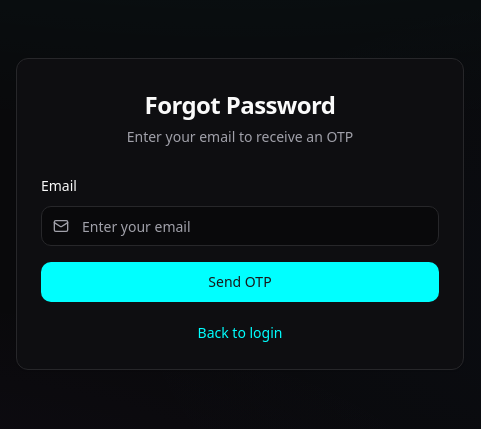
Test: ForgotPassword › rejects a password the backend schema would reject, without calling the API
The image size is (481, 429).
Type "buyer@example.com" into the field labelled "Email".
click(240, 226); type("buyer@example.com")  # box x1=41 y1=206 x2=439 y2=246
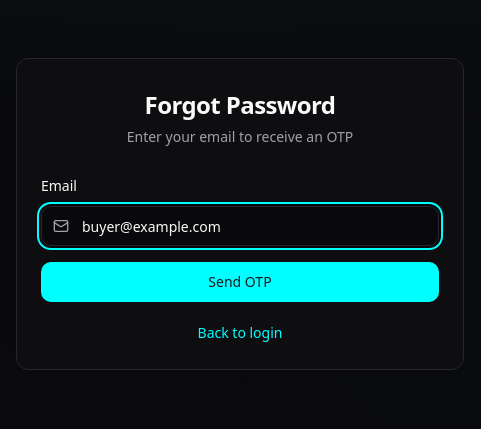
Click the button "Send OTP".
click(240, 282)  # box x1=41 y1=262 x2=439 y2=302
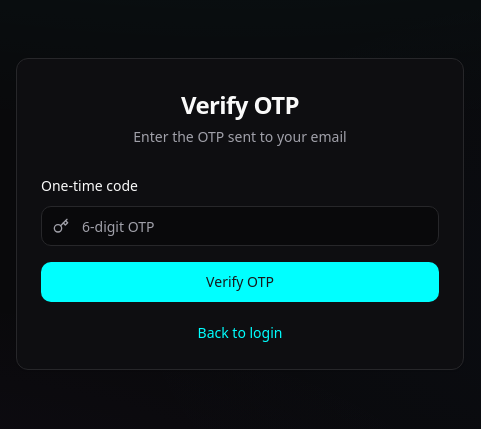
Type "123456" into the field labelled "One-time code".
click(240, 226); type("123456")  # box x1=41 y1=206 x2=439 y2=246
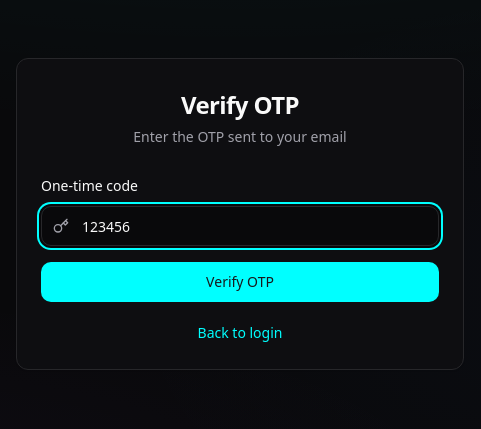
Click the button "Verify OTP".
click(240, 282)  # box x1=41 y1=262 x2=439 y2=302
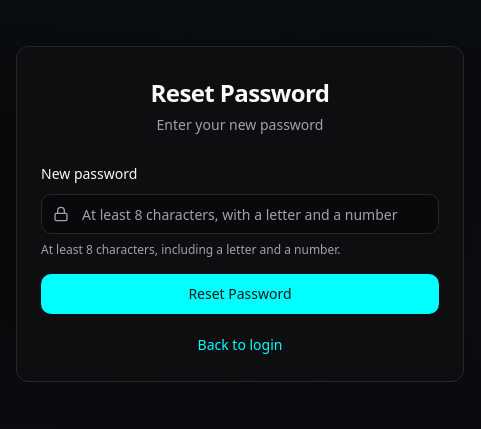
Type "abcdefgh" into the password field labelled "New password".
click(240, 214); type("abcdefgh")  # box x1=41 y1=194 x2=439 y2=234
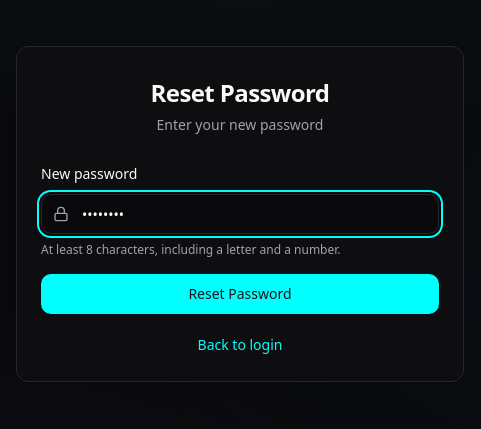
Click the button "Reset Password".
click(240, 294)  # box x1=41 y1=274 x2=439 y2=314
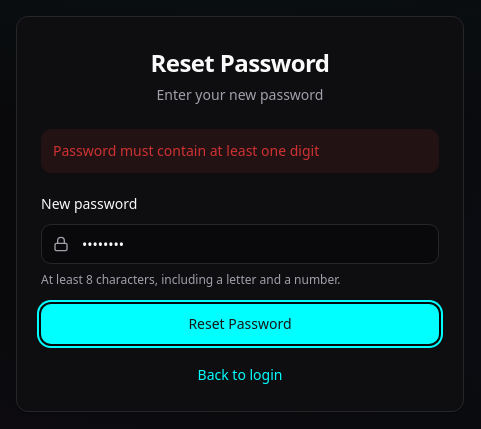
Expected: the message shows "at least one digit", x1=53 y1=141 x2=319 y2=160
